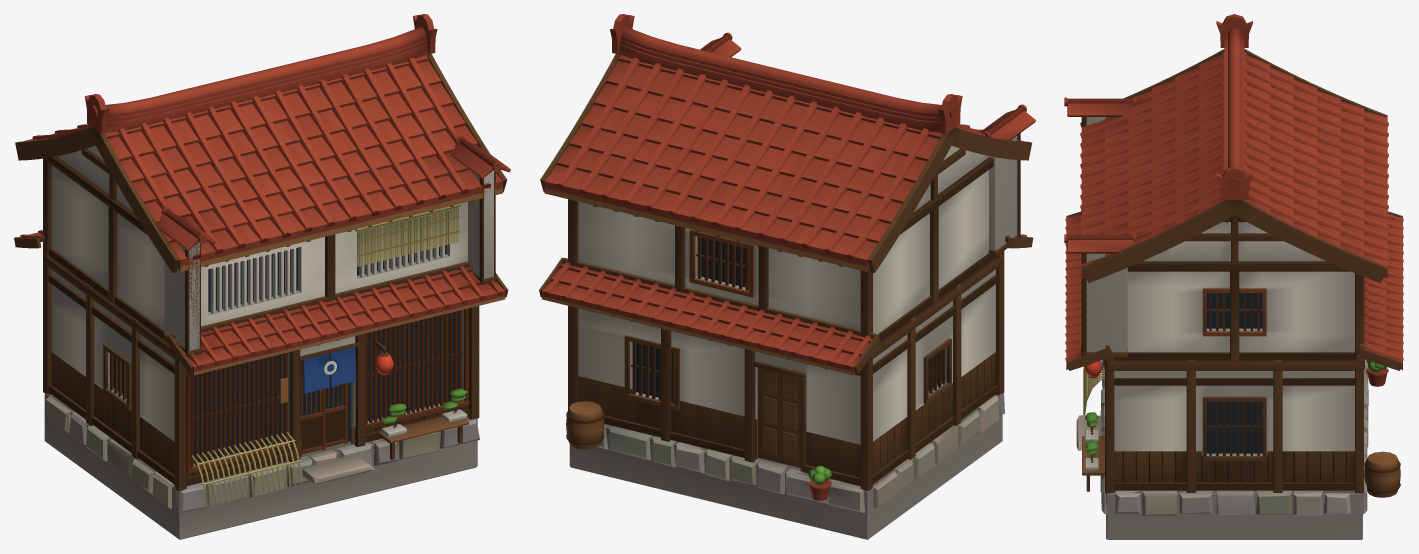
The model's file is kawabe-house-a.glb.
The picture shows the model from 3 angles, left to right: view 1: azimuth 30°, elevation 25°; view 2: azimuth 150°, elevation 25°; view 3: azimuth 270°, elevation 25°; orthographic projection. The views are drawn at different scales.
Parts seen in each view (by area): view 1: Kawabe house A Roof tile, Kawabe house A Plaster, Kawabe house A Wood, Kawabe house A Window glow, Kawabe house A Noren, Kawabe house A Leaf; view 2: Kawabe house A Roof tile, Kawabe house A Plaster, Kawabe house A Wood, Kawabe house A Window glow; view 3: Kawabe house A Roof tile, Kawabe house A Plaster, Kawabe house A Wood, Kawabe house A Window glow, Kawabe house A Leaf.
Part boxes in pixels (box(x1,y1,x2,y2)): Kawabe house A Roof tile: box(19, 14, 510, 374); Kawabe house A Plaster: box(44, 145, 493, 539); Kawabe house A Wood: box(14, 54, 508, 490); Kawabe house A Window glow: box(113, 211, 458, 463); Kawabe house A Noren: box(304, 347, 356, 393); Kawabe house A Leaf: box(382, 388, 467, 423); Kawabe house A Roof tile: box(542, 14, 1035, 500); Kawabe house A Plaster: box(566, 136, 1017, 539); Kawabe house A Wood: box(539, 54, 1033, 490); Kawabe house A Window glow: box(636, 237, 941, 397); Kawabe house A Roof tile: box(1064, 14, 1403, 386); Kawabe house A Plaster: box(1076, 117, 1368, 539); Kawabe house A Wood: box(1066, 49, 1402, 497); Kawabe house A Window glow: box(1206, 293, 1262, 453); Kawabe house A Leaf: box(1085, 360, 1386, 455).
Bounding box in the file's own units: 7.26 × 8.22 × 6.67.
